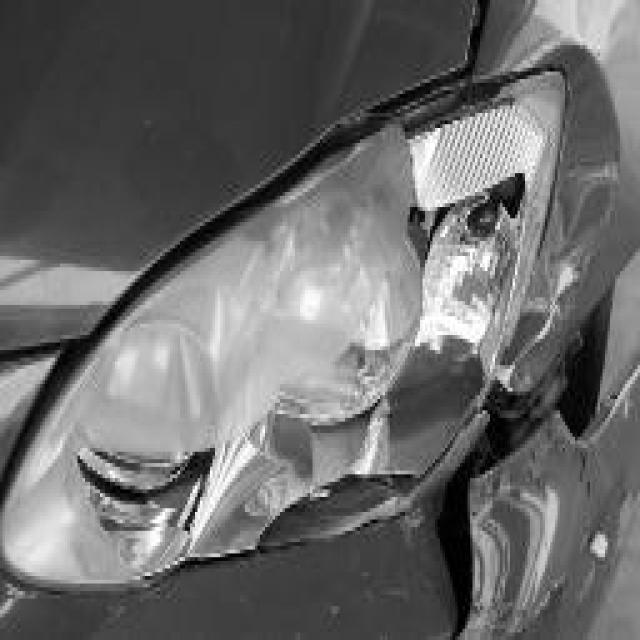Bumper: (356, 350, 640, 638)
Fender: (478, 5, 640, 396)
Light: (1, 74, 568, 590)
